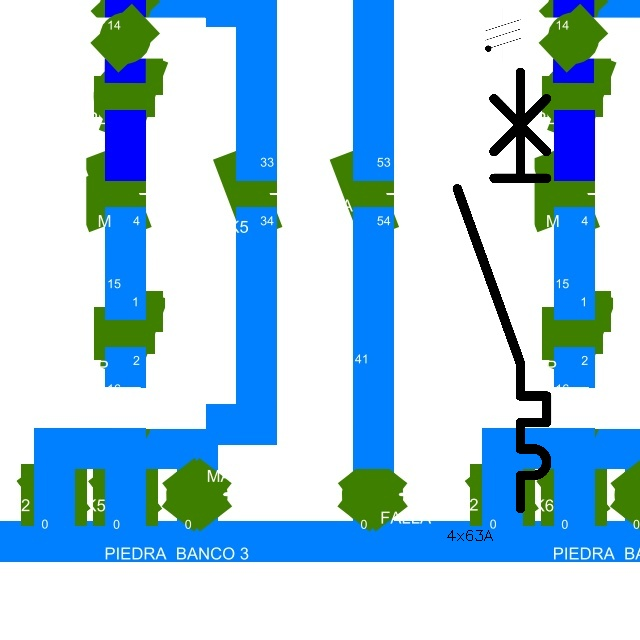interruptor_termomagnetico: (446, 60, 558, 519)
